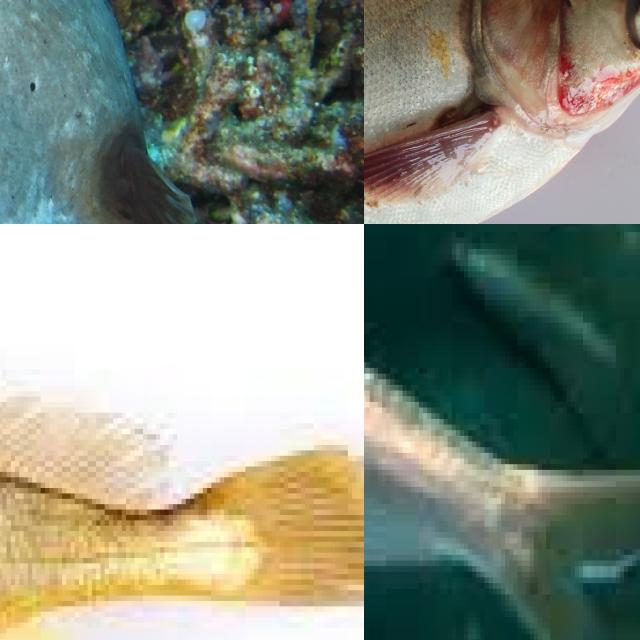fish: (0, 246, 364, 640), (0, 0, 364, 224), (364, 0, 640, 224)
